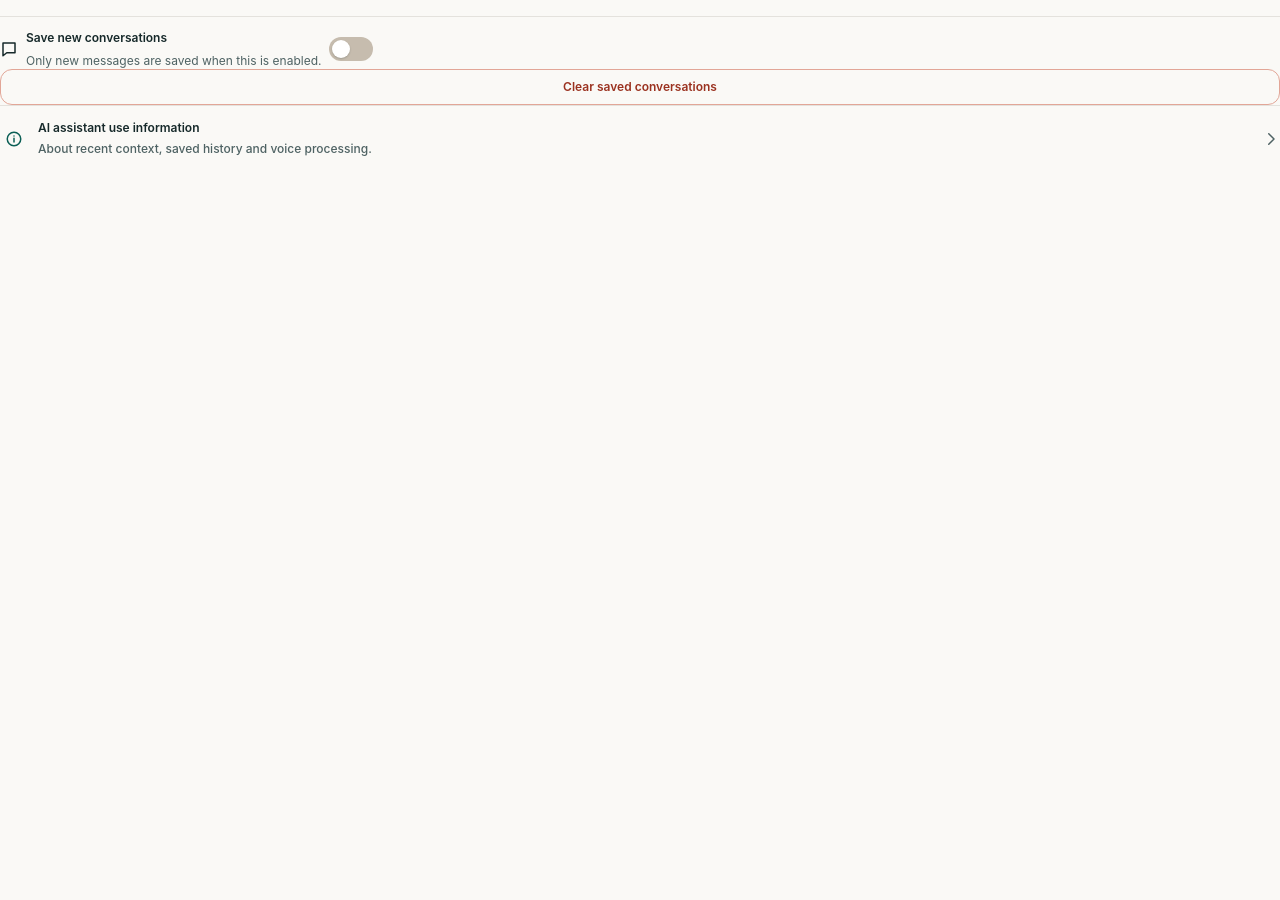
Test: keeps clear confirmation open with a visible error and allows an explicit retry
The image size is (1280, 900).
Later steps or results of the test are not shown.
What coordinates should you click on to do the following:
click the button "Clear saved conversations"
I would click on:
 (640, 87)
Its box is x1=0 y1=69 x2=1279 y2=105.
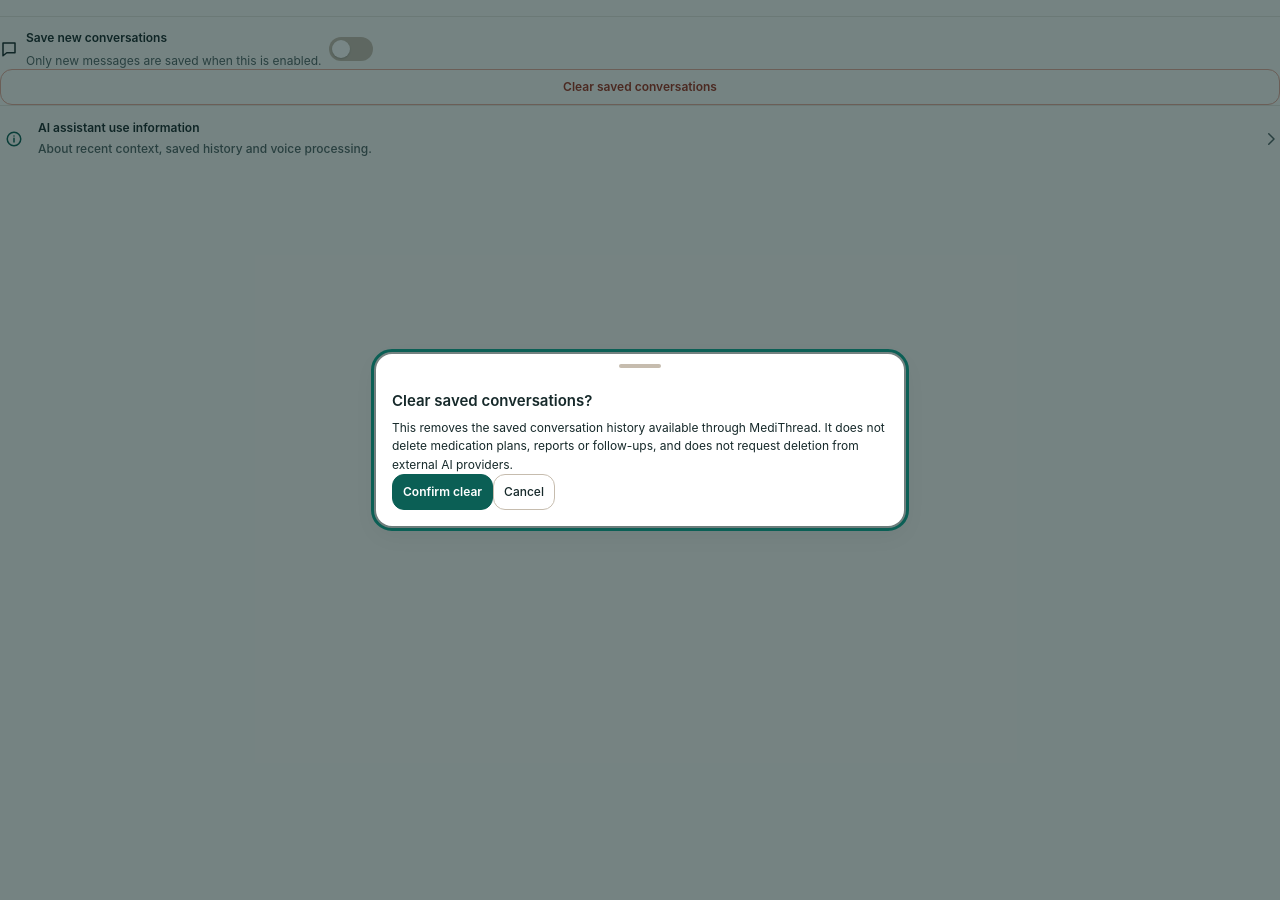
What coordinates should you click on to do the following:
click the button "Confirm clear"
I would click on:
 (443, 492)
Its box is x1=392 y1=474 x2=493 y2=510.
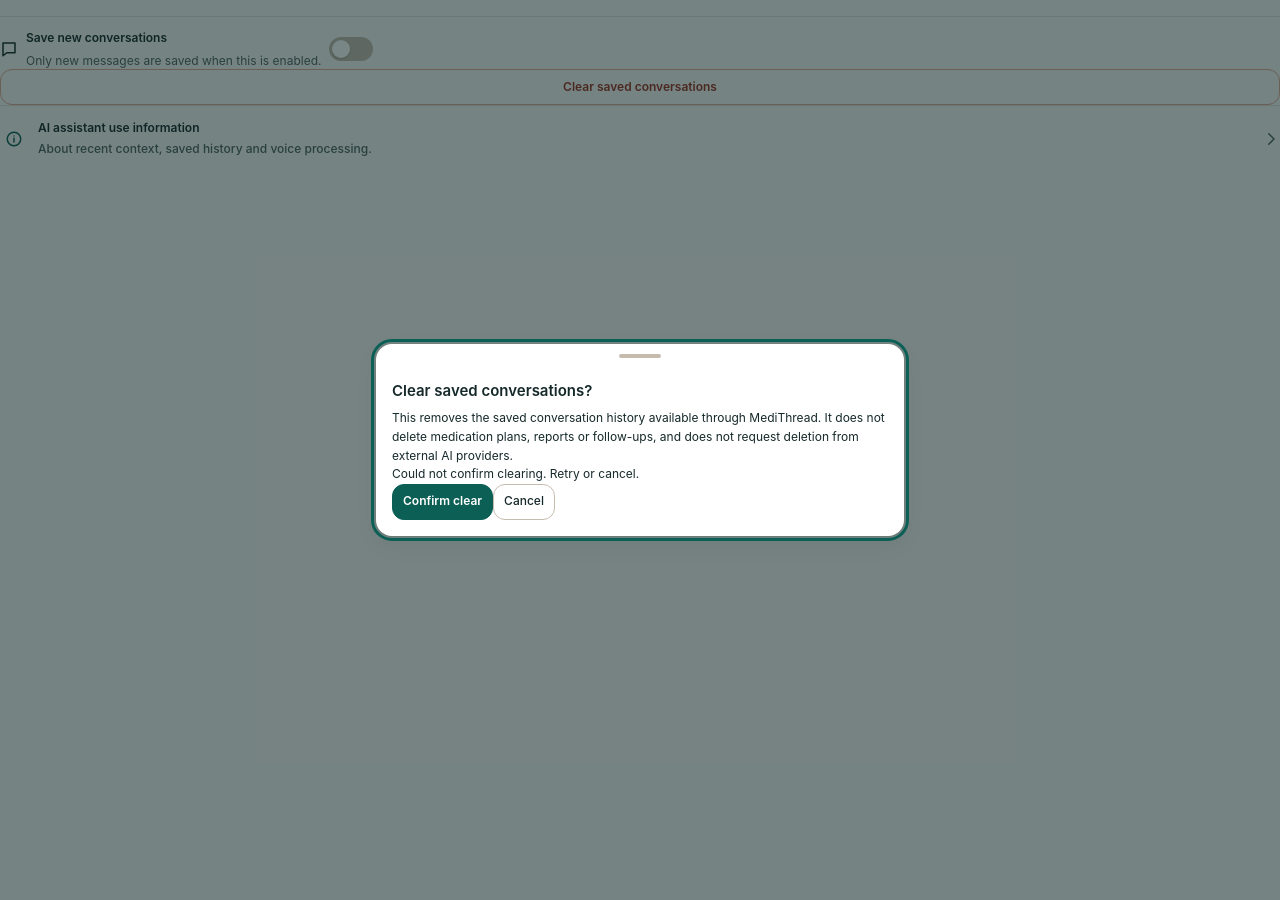
Now the dialog "Clear saved conversations?" shows "Could not confirm clearing. Retry or cancel.", box x1=392 y1=466 x2=639 y2=481
